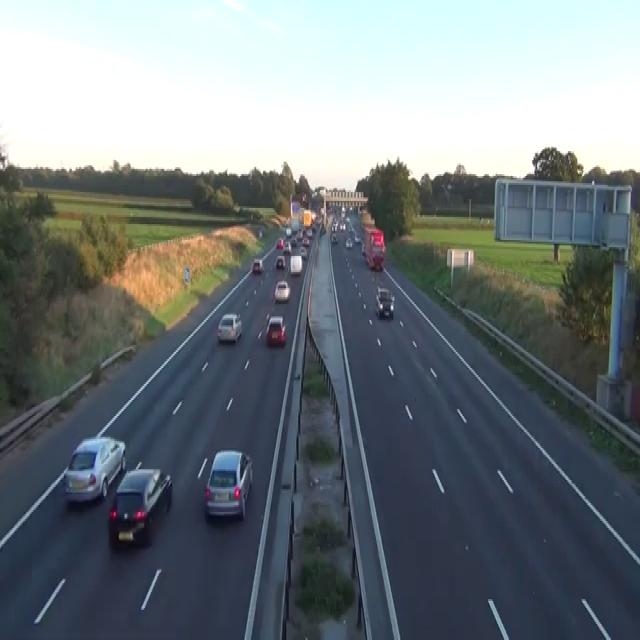Car: (108, 462, 172, 548), (63, 436, 126, 503), (204, 448, 253, 521), (216, 313, 242, 343), (375, 286, 395, 318), (265, 315, 286, 345), (274, 279, 290, 302), (368, 247, 384, 270), (252, 258, 263, 274), (275, 254, 285, 268), (299, 246, 307, 260), (282, 240, 291, 252), (276, 236, 283, 249), (331, 219, 337, 231), (301, 237, 309, 246), (331, 233, 338, 243), (345, 237, 352, 247), (354, 233, 361, 243), (319, 224, 325, 235), (285, 226, 291, 236), (339, 220, 345, 230), (290, 237, 296, 246), (361, 242, 365, 254), (306, 228, 312, 236), (296, 230, 302, 238), (348, 226, 354, 233), (311, 224, 316, 231), (259, 228, 262, 236)
Truck: (364, 228, 385, 270)
